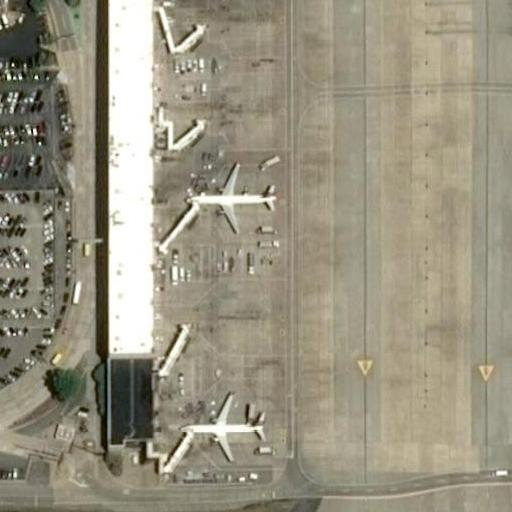Aircraft: (185, 153, 275, 234), (176, 388, 264, 460)
